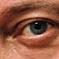eye: (30, 22, 48, 35)
